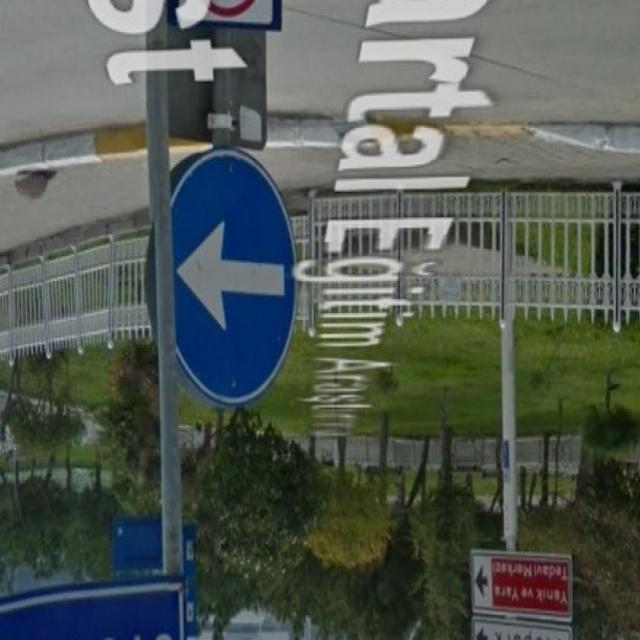Turn Left: (157, 148, 304, 409)
